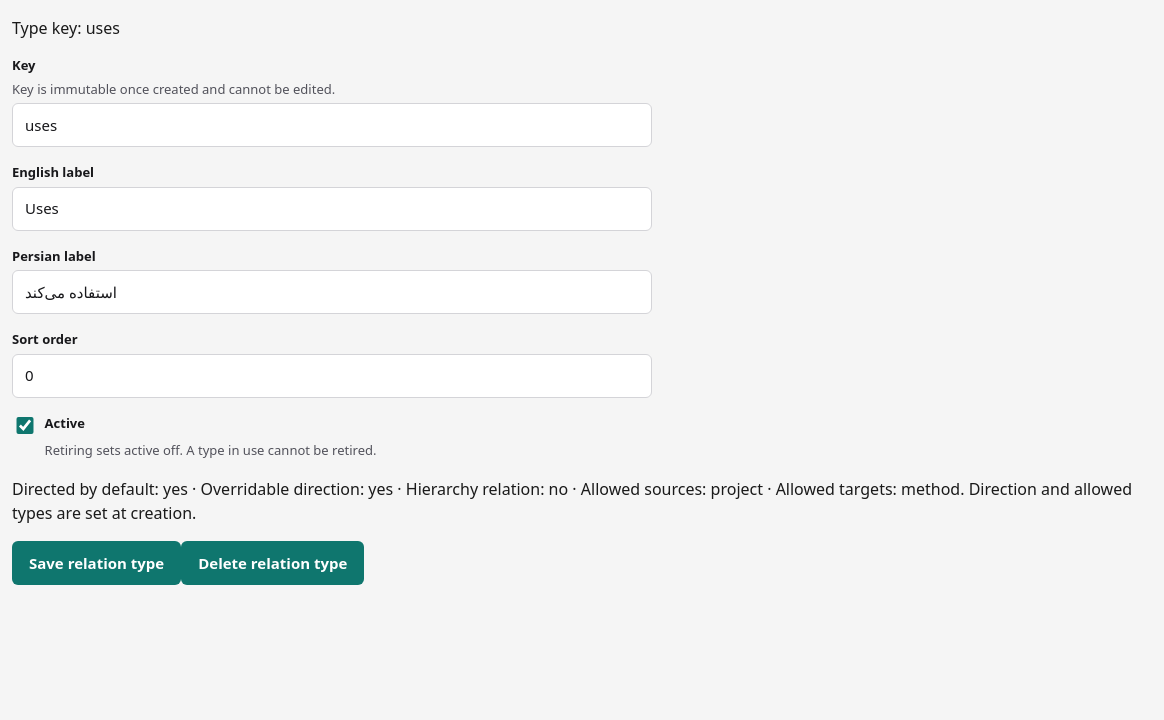
Test: RelationTypeForm (Plan B Task 13) › surfaces the server conflict when deleting an in-use relation type
Click the button "Delete relation type".
click(273, 563)  # box [181,541,364,585]
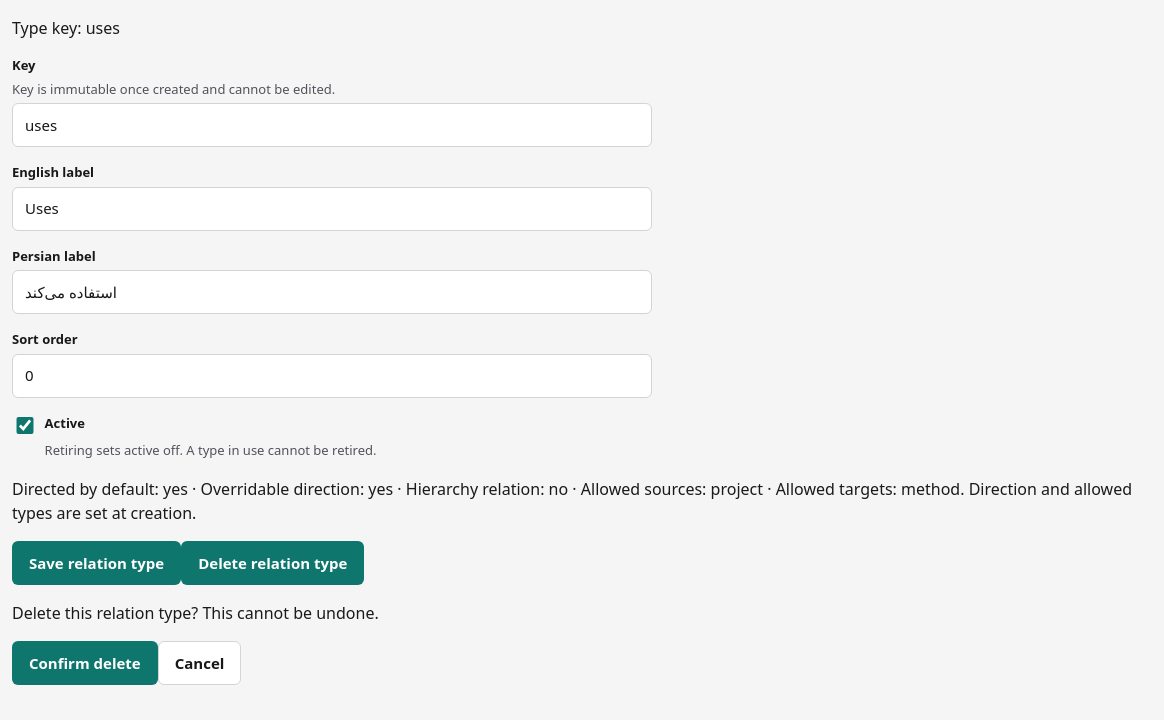
Click the button "Confirm delete".
click(85, 663)  # box [12,641,158,685]
(page scrolled)
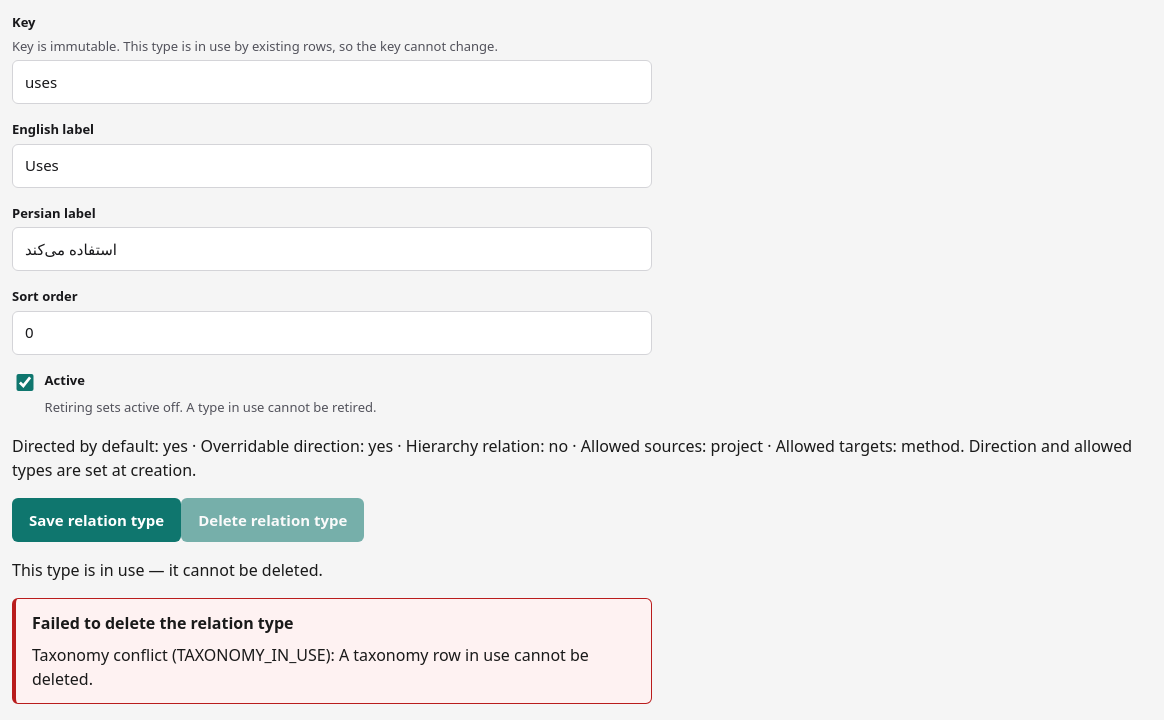
Expected: the text "TAXONOMY_IN_USE" is shown, [32,644,589,690]
